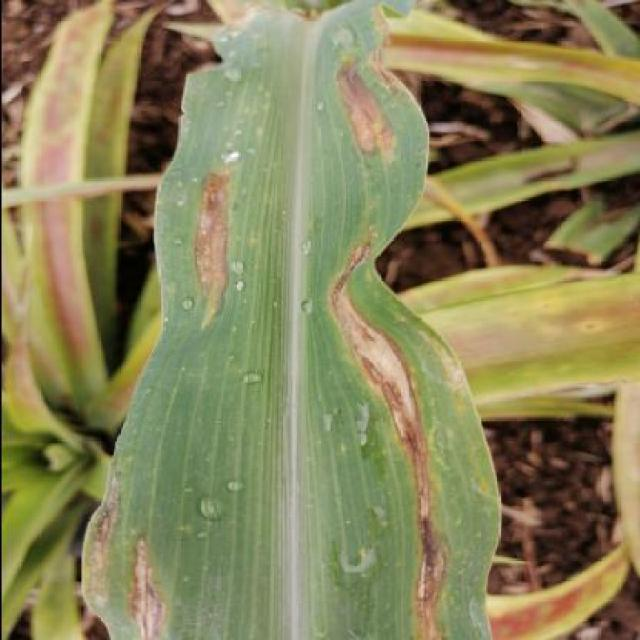Corn_Leaf_Blight: (92, 0, 505, 640)
